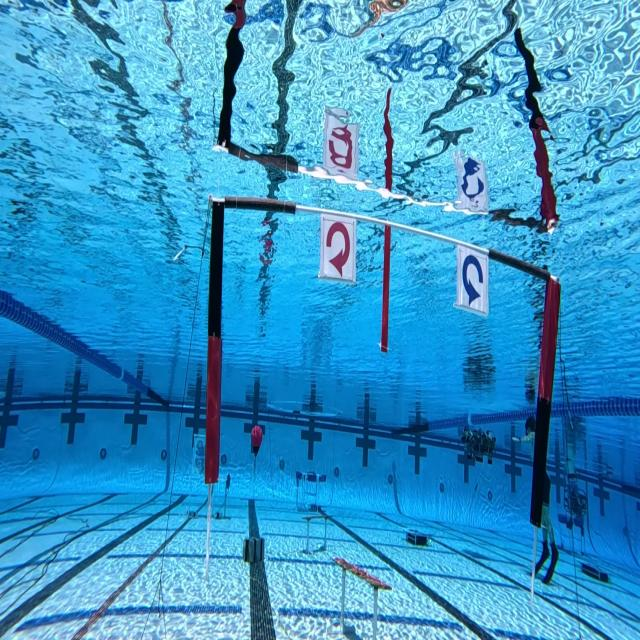blue_side: (456, 238, 487, 310)
red_side: (319, 210, 355, 279)
